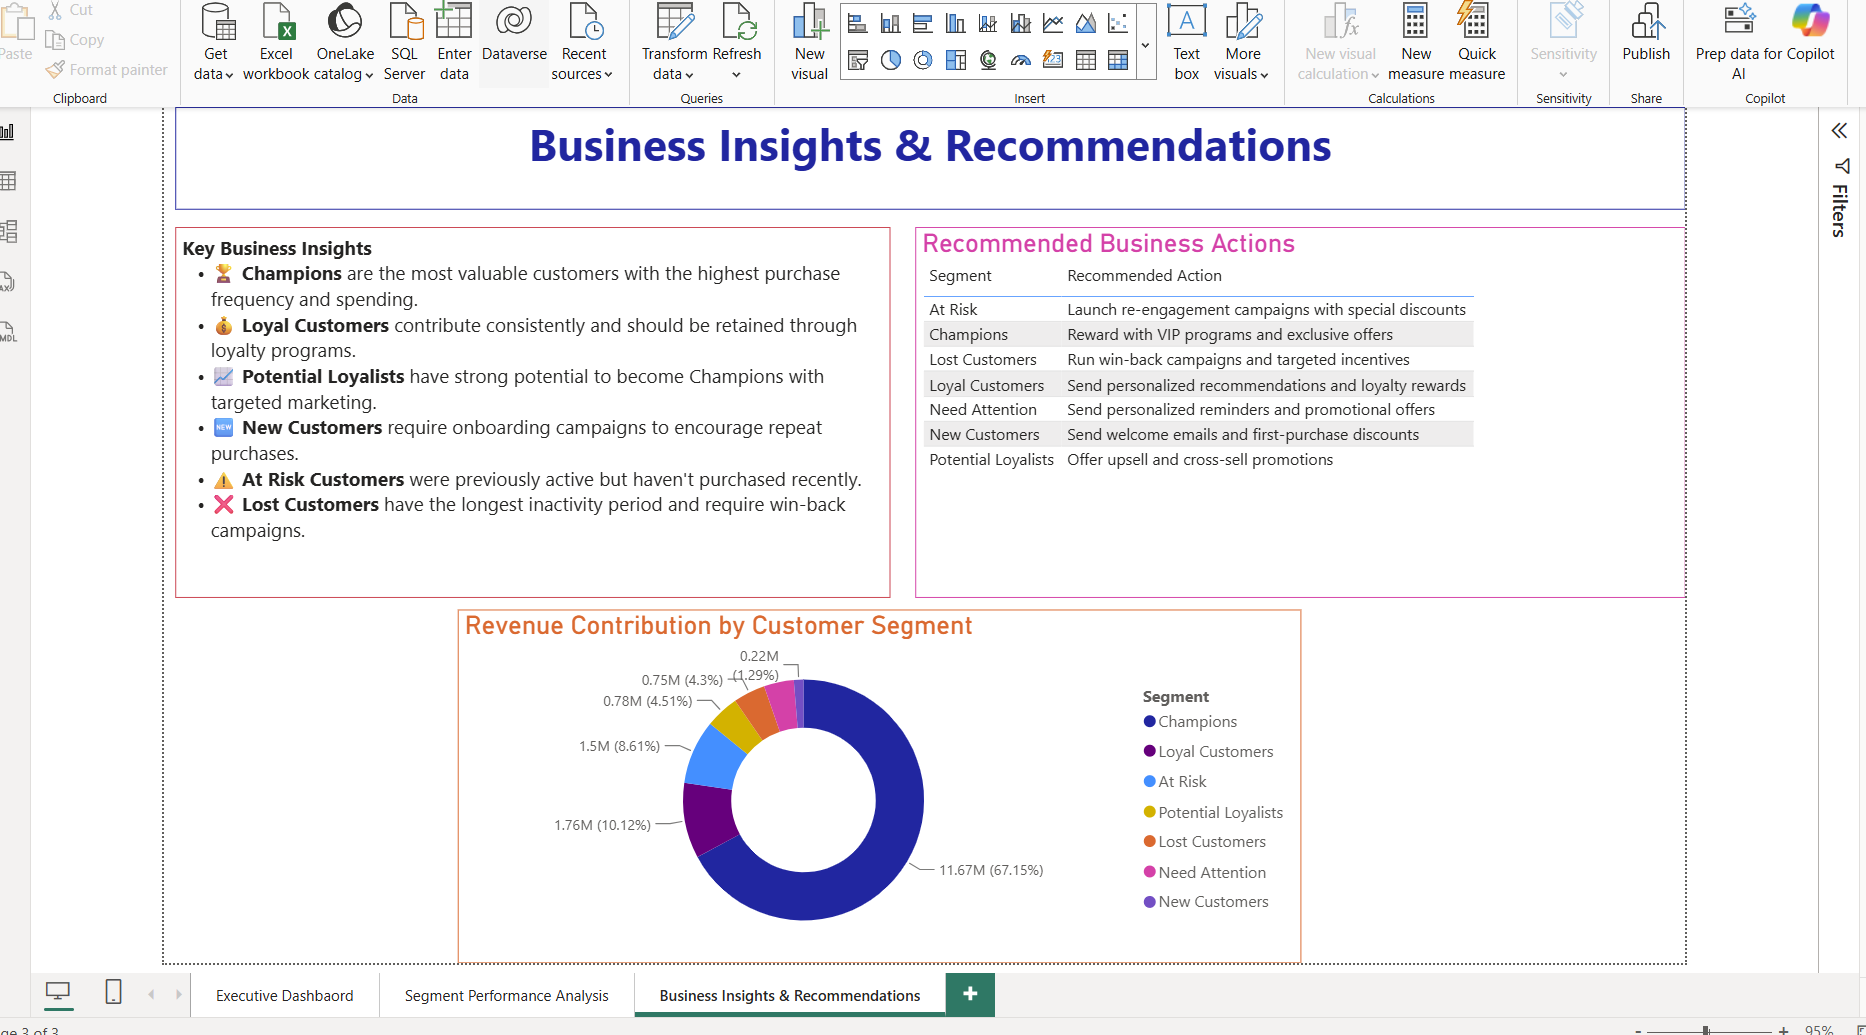

The page's visual inventory and layout, read from the dashboard file:
{"tool":"powerbi","page":{"name":"Business Insights & Recommendations","canvas":[1280,720],"ordinal":2},"visuals":[{"type":"textbox","box":[9.6,0,1270.4,86.3],"z":0},{"type":"textbox","box":[9.6,100.7,601.6,311.6],"z":1},{"type":"tableEx","title":"Recommended Business Actions","fields":{"Values":["Business Recommendations.Segment","Business Recommendations.Recommended Action"]},"box":[631.6,100.7,648.4,311.6],"z":2},{"type":"donutChart","title":"Revenue Contribution by Customer Segment","fields":{"Category":["Customer_RFM_Segmentation.Segment"],"Y":["Sum(Customer_RFM_Segmentation.Monetary)"]},"box":[246.9,423.1,709.5,297.2],"z":3}]}

Visuals, with their boxes on the page's 1280x720 design canvas (x1, y1, x2, y2). These are canvas units, not pixel positions in the 1866x1035 screenshot, which may show the page scaled, cropped or inside an application window:
textbox: {"x1": 10, "y1": 0, "x2": 1280, "y2": 86}
textbox: {"x1": 10, "y1": 101, "x2": 611, "y2": 412}
"Recommended Business Actions" tableEx: {"x1": 632, "y1": 101, "x2": 1280, "y2": 412}
"Revenue Contribution by Customer Segment" donutChart: {"x1": 247, "y1": 423, "x2": 956, "y2": 720}
